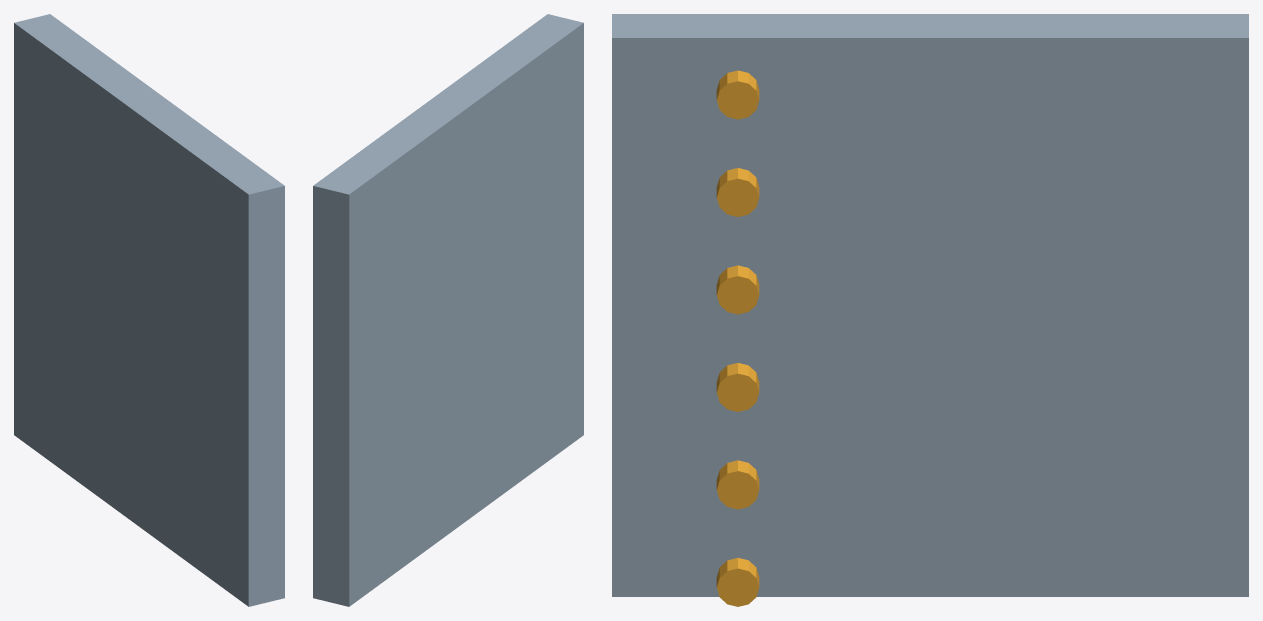
The model's file is 05_L86_CargoServiceBayHatch.fbx.
3 renders of one model, left to right at view 1: azimuth 30°, elevation 25°; view 2: azimuth 150°, elevation 25°; view 3: azimuth 270°, elevation 25°, orthographic. The views are drawn at different scales.
Visible parts, largest first — view 1: L86_CargoServiceBayHatch_Part_0000; view 2: L86_CargoServiceBayHatch_Part_0000; view 3: L86_CargoServiceBayHatch_Part_0000, L86_CargoServiceBayHatch_Part_0002, L86_CargoServiceBayHatch_Part_0001.
Part boxes in pixels (left/top/right/bottom): L86_CargoServiceBayHatch_Part_0000: left=14, top=14, right=284, bottom=606; L86_CargoServiceBayHatch_Part_0000: left=313, top=14, right=583, bottom=606; L86_CargoServiceBayHatch_Part_0000: left=612, top=14, right=1248, bottom=596; L86_CargoServiceBayHatch_Part_0002: left=716, top=70, right=759, bottom=411; L86_CargoServiceBayHatch_Part_0001: left=716, top=460, right=759, bottom=606.
Size of the model in its own units: 31.5 by 218 by 225.
